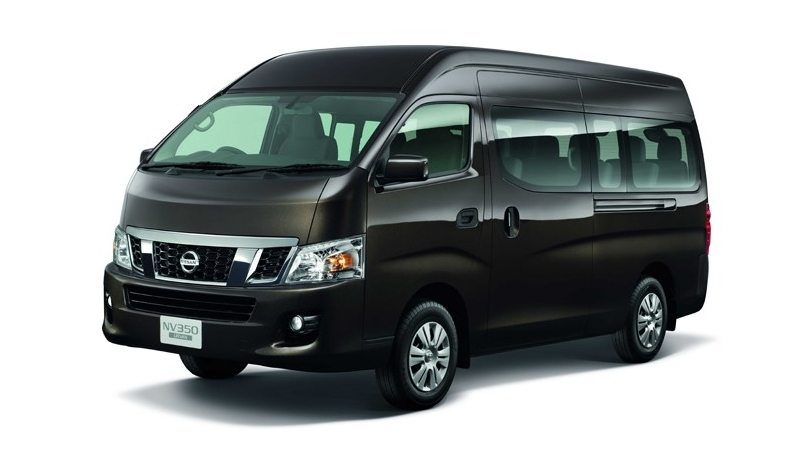van: (101, 44, 712, 410)
